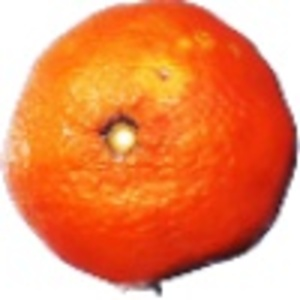tangerina: (1, 1, 300, 295)
